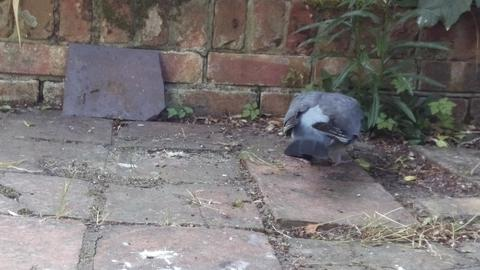wood pigeon: (282, 91, 363, 168)
